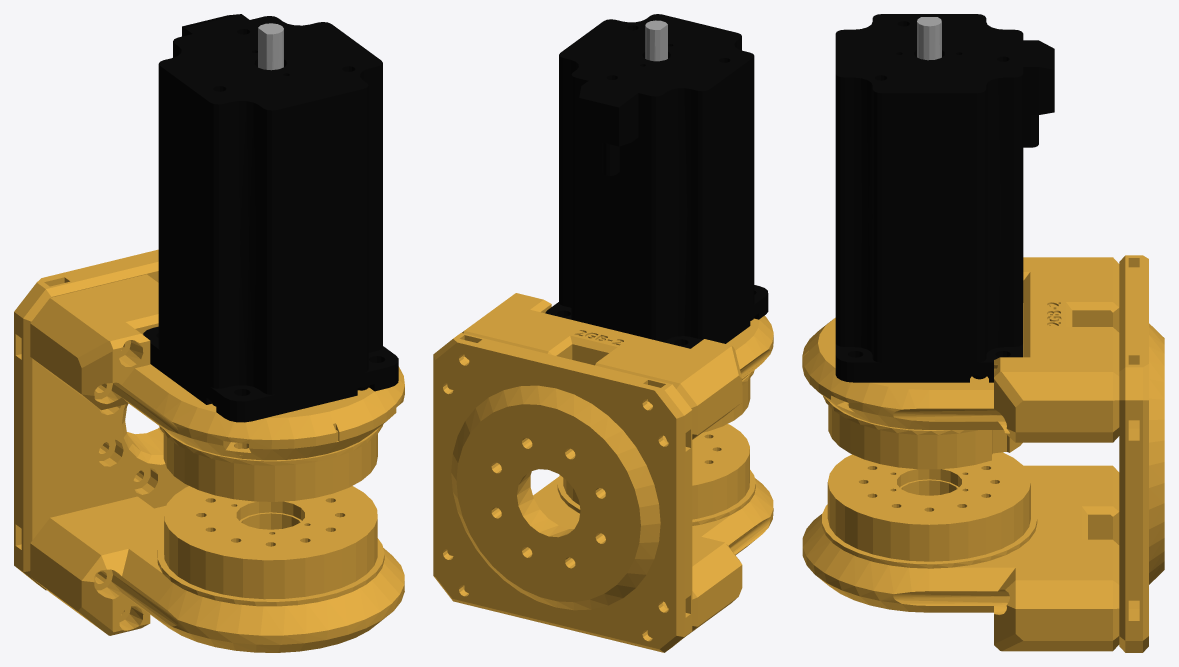
The model's file is shoulder.obj.
The picture shows the model from 3 angles, left to right: view 1: azimuth 30°, elevation 25°; view 2: azimuth 150°, elevation 25°; view 3: azimuth 270°, elevation 25°; orthographic projection. The views are drawn at different scales.
Visible parts, largest first — view 1: Shoulder_Shoulder.001; view 2: Shoulder_Shoulder.001; view 3: Shoulder_Shoulder.001.
Boxes of the visible parts, x1,y1,x2,y2 form: Shoulder_Shoulder.001: (14, 14, 404, 652); Shoulder_Shoulder.001: (433, 14, 773, 652); Shoulder_Shoulder.001: (802, 14, 1164, 652).
Bounding box in the file's own units: 10.07 × 20.31 × 11.59.
Materials: 1 (1 with a texture image).
